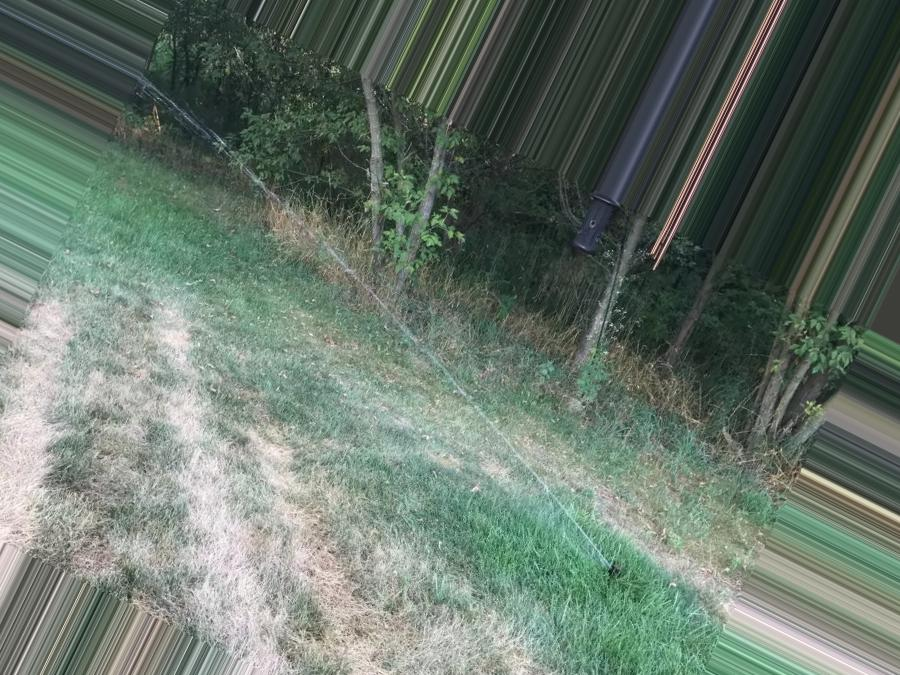patch: (165, 403, 241, 636), (266, 444, 317, 573), (21, 349, 43, 542), (322, 588, 380, 649), (151, 312, 190, 395), (46, 310, 80, 342)
